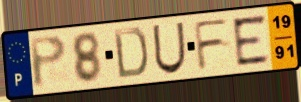8: (70, 30, 103, 85)
D: (112, 26, 150, 81)
E: (230, 12, 272, 68)
F: (192, 16, 232, 73)
P: (26, 33, 69, 91)
U: (151, 20, 188, 76)
